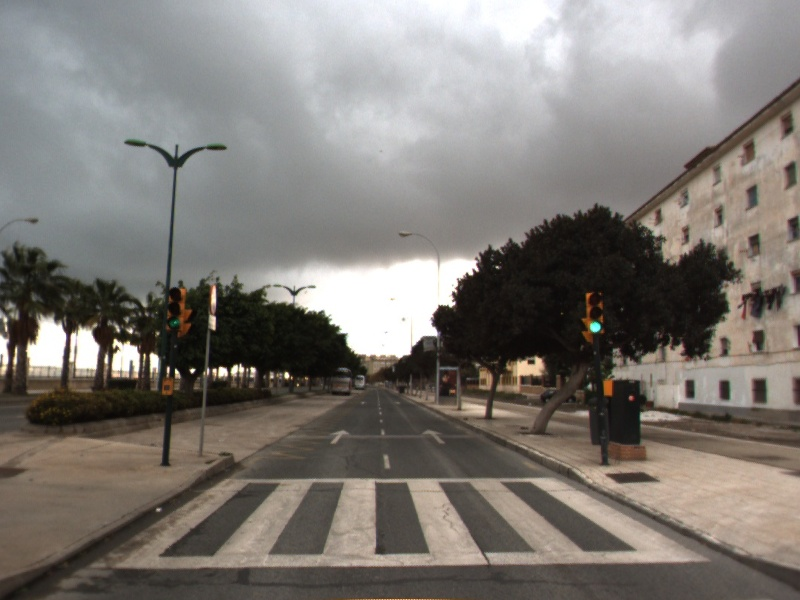STRAIGHT: (420, 427, 449, 447), (326, 428, 353, 447)
